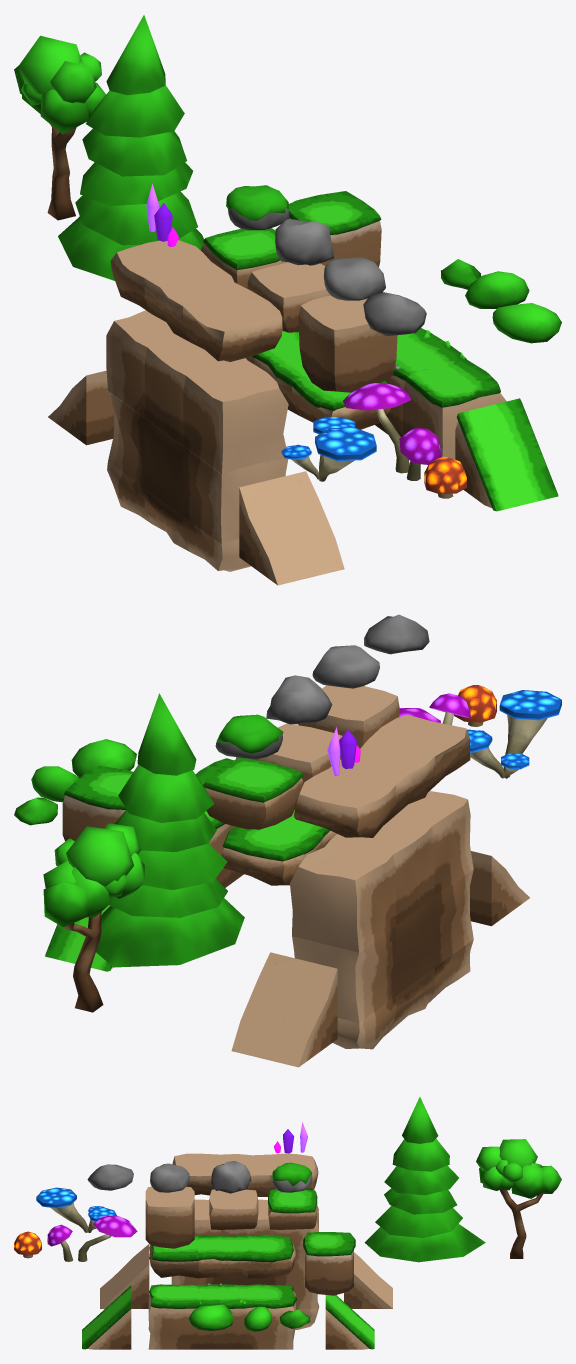
File: ForestEnvironment.fbx
The picture shows the model from 3 angles, top to bottom: view 1: azimuth 30°, elevation 25°; view 2: azimuth 150°, elevation 25°; view 3: azimuth 270°, elevation 25°; orthographic projection. The views are drawn at different scales.
Parts seen in each view (by area): view 1: DirtPlatform10, DirtPlatform8, Grass6, DirtPlatform7, Grass1, FlyingDirt1, DirtPlatform3, DirtPlatform11, Grass4, DirtPlatform12, FlyingDirt2, DaunPohon1.003 (+32 smaller); view 2: DirtPlatform12, DirtPlatform9, DaunPohon1, FlyingGrass4, FlyingDirt3, DirtPlatform5, DirtPlatform11, FlyingGrass3, DirtPlatform10, DaunPohon1.004, Grass4, FlyingDirt1 (+31 smaller); view 3: Grass1, Grass4, DirtPlatform7, DaunPohon1, Grass3, Grass2, Grass6, FlyingGrass2, Grass5, FlyingGrass3, FlyingGrass4, DaunPohon1.001 (+35 smaller).
Boxes of the visible parts, <box> form: DirtPlatform10: <box>183,360,288,474</box>; DirtPlatform8: <box>239,471,344,585</box>; Grass6: <box>455,398,558,511</box>; DirtPlatform7: <box>298,295,397,392</box>; Grass1: <box>403,360,506,459</box>; FlyingDirt1: <box>183,290,282,361</box>; DirtPlatform3: <box>183,446,288,544</box>; DirtPlatform11: <box>144,338,247,445</box>; Grass4: <box>288,191,381,267</box>; DirtPlatform12: <box>106,310,182,417</box>; FlyingDirt2: <box>144,262,248,341</box>; DaunPohon1.003: <box>82,128,186,176</box>; DirtPlatform12: <box>290,839,395,952</box>; DirtPlatform9: <box>231,952,337,1067</box>; DaunPohon1: <box>96,898,244,967</box>; FlyingGrass4: <box>203,757,303,829</box>; FlyingDirt3: <box>293,768,395,837</box>; DirtPlatform5: <box>292,926,395,1022</box>; DirtPlatform11: <box>331,817,434,925</box>; FlyingGrass3: <box>221,822,323,885</box>; DirtPlatform10: <box>394,791,473,896</box>; DaunPohon1.004: <box>118,765,214,822</box>; Grass4: <box>62,765,133,841</box>; FlyingDirt1: <box>368,714,470,791</box>; Grass1: <box>148,1284,197,1349</box>; Grass4: <box>303,1232,355,1295</box>; DirtPlatform7: <box>145,1186,194,1248</box>; DaunPohon1: <box>364,1223,485,1262</box>; Grass3: <box>246,1284,296,1349</box>; Grass2: <box>197,1284,246,1349</box>; Grass6: <box>82,1285,131,1349</box>; FlyingGrass2: <box>198,1235,247,1278</box>; Grass5: <box>325,1295,374,1349</box>; FlyingGrass3: <box>247,1234,295,1278</box>; FlyingGrass4: <box>268,1189,317,1229</box>; DaunPohon1.001: <box>375,1205,462,1237</box>.
Size of the model in its own units: 1124 by 1146 by 2232.
